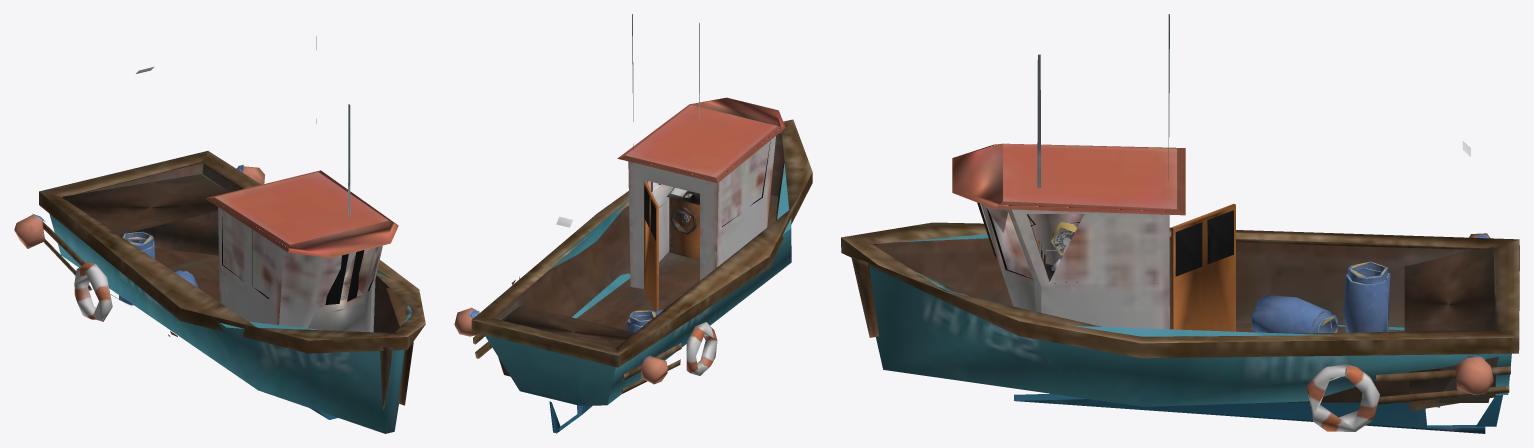
The model's file is fishing-ship.lod1.glb.
3 renders of one model, left to right at view 1: azimuth 30°, elevation 25°; view 2: azimuth 150°, elevation 25°; view 3: azimuth 270°, elevation 25°, orthographic. The views are drawn at different scales.
Parts seen in each view (by area): view 1: Sketchfab_Fishing_Ship_0, Sketchfab_Boat_Interior_0; view 2: Sketchfab_Fishing_Ship_0, Sketchfab_Boat_Interior_0; view 3: Sketchfab_Fishing_Ship_0, Sketchfab_Boat_Interior_0.
Boxes of the visible parts, <box> form: Sketchfab_Fishing_Ship_0: <box>39,36,425,433</box>; Sketchfab_Boat_Interior_0: <box>14,164,344,336</box>; Sketchfab_Fishing_Ship_0: <box>471,14,812,433</box>; Sketchfab_Boat_Interior_0: <box>454,187,717,384</box>; Sketchfab_Fishing_Ship_0: <box>841,14,1519,433</box>; Sketchfab_Boat_Interior_0: <box>1036,222,1493,431</box>.
Bounding box in the file's own units: 14.83 × 21.73 × 29.98.
Materials: 3 (2 with a texture image).
